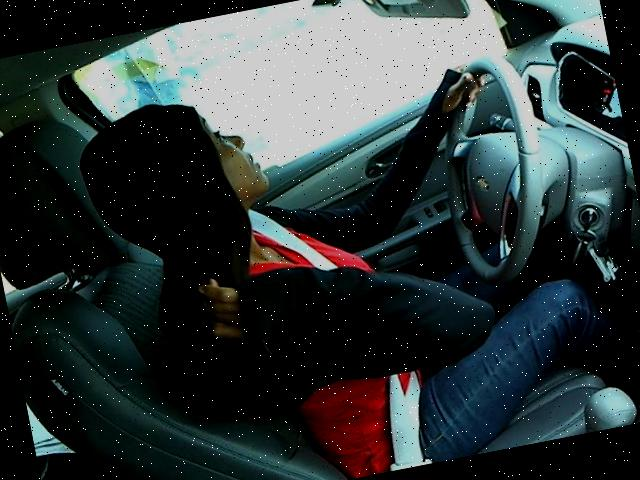c6 - Hair and Makeup: (57, 18, 598, 444)
